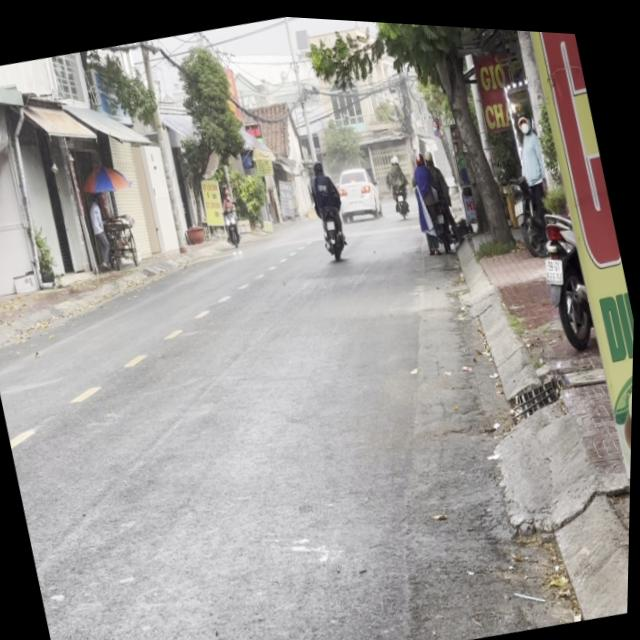licenseplate: (496, 65, 603, 350)
nohelmet: (541, 247, 568, 281)
